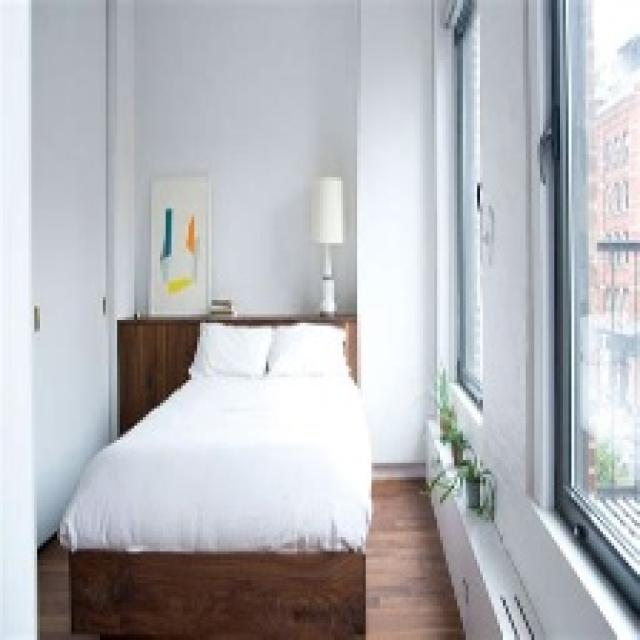Bed: (57, 314, 372, 637)
